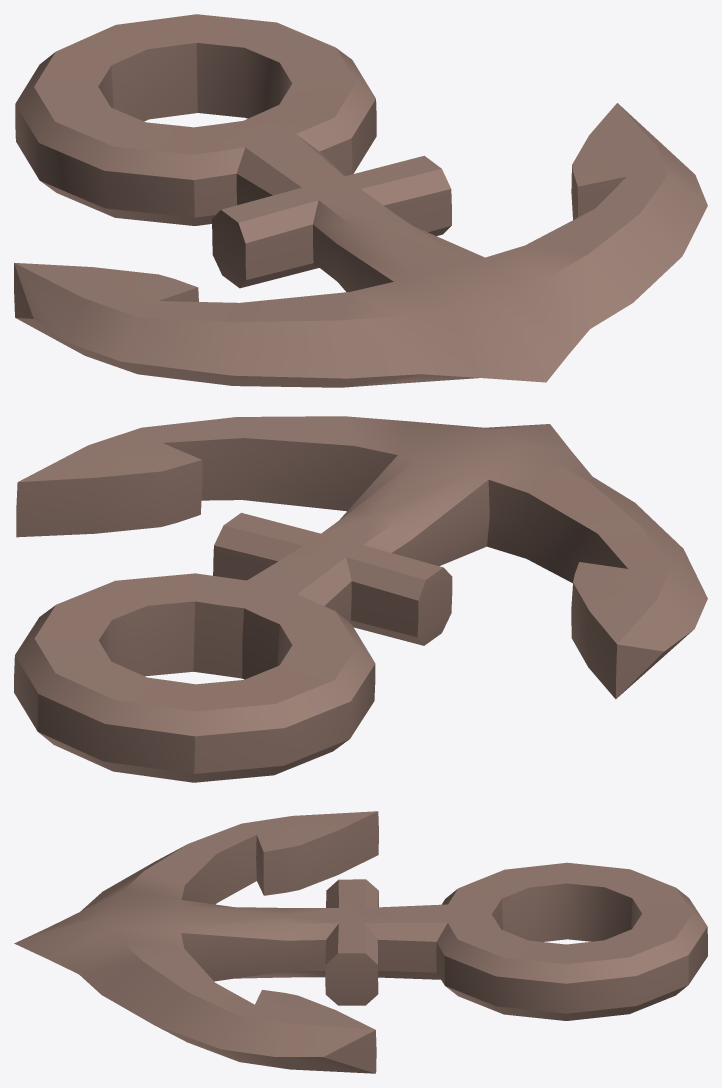
Rendered from quaternius-pirate-prop-anchor.glb.
3 renders of one model, top to bottom at view 1: azimuth 30°, elevation 25°; view 2: azimuth 150°, elevation 25°; view 3: azimuth 270°, elevation 25°, orthographic. The views are drawn at different scales.
Parts seen in each view (by area): view 1: Prop_Anchor; view 2: Prop_Anchor; view 3: Prop_Anchor.
Part boxes in pixels (x1,y1,x2,y2): Prop_Anchor: (14,14,707,387); Prop_Anchor: (14,416,707,782); Prop_Anchor: (14,811,707,1073).
Bounding box in the file's own units: 0.7807 × 0.0932 × 0.9507.
1 material, 1 textured.
